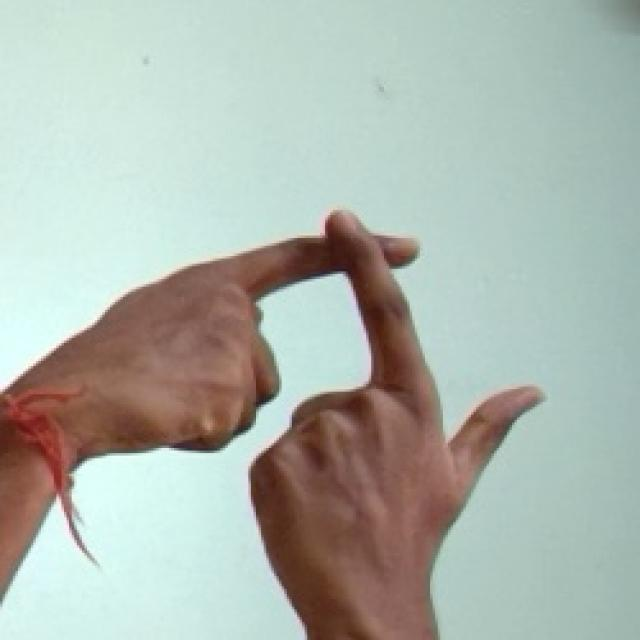Alphabet-J: (53, 211, 586, 640)
